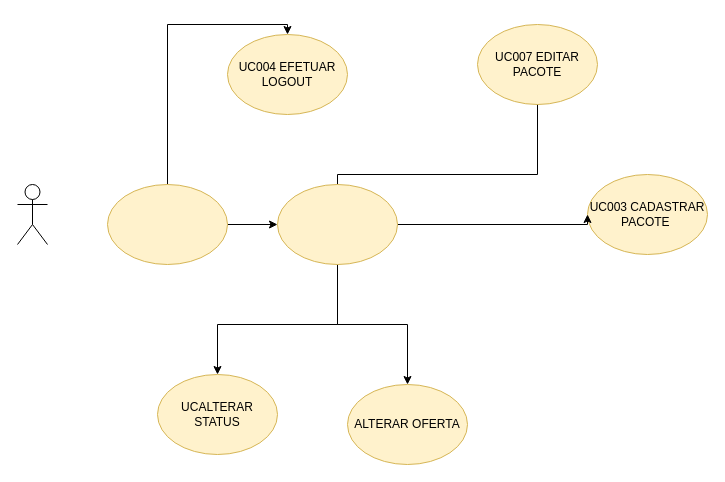
Image size: 725x482. Some labels were removed from this diagram. The shapes that lost their labels are listed below. From the top down, each one's centre as x and y in pixels, then its label:
At [32,214]: "Actor".
At [167,224]: "UC001 EFETUAR LOGIN".
At [337,224]: "UC002 LISTAR PACOTES".
